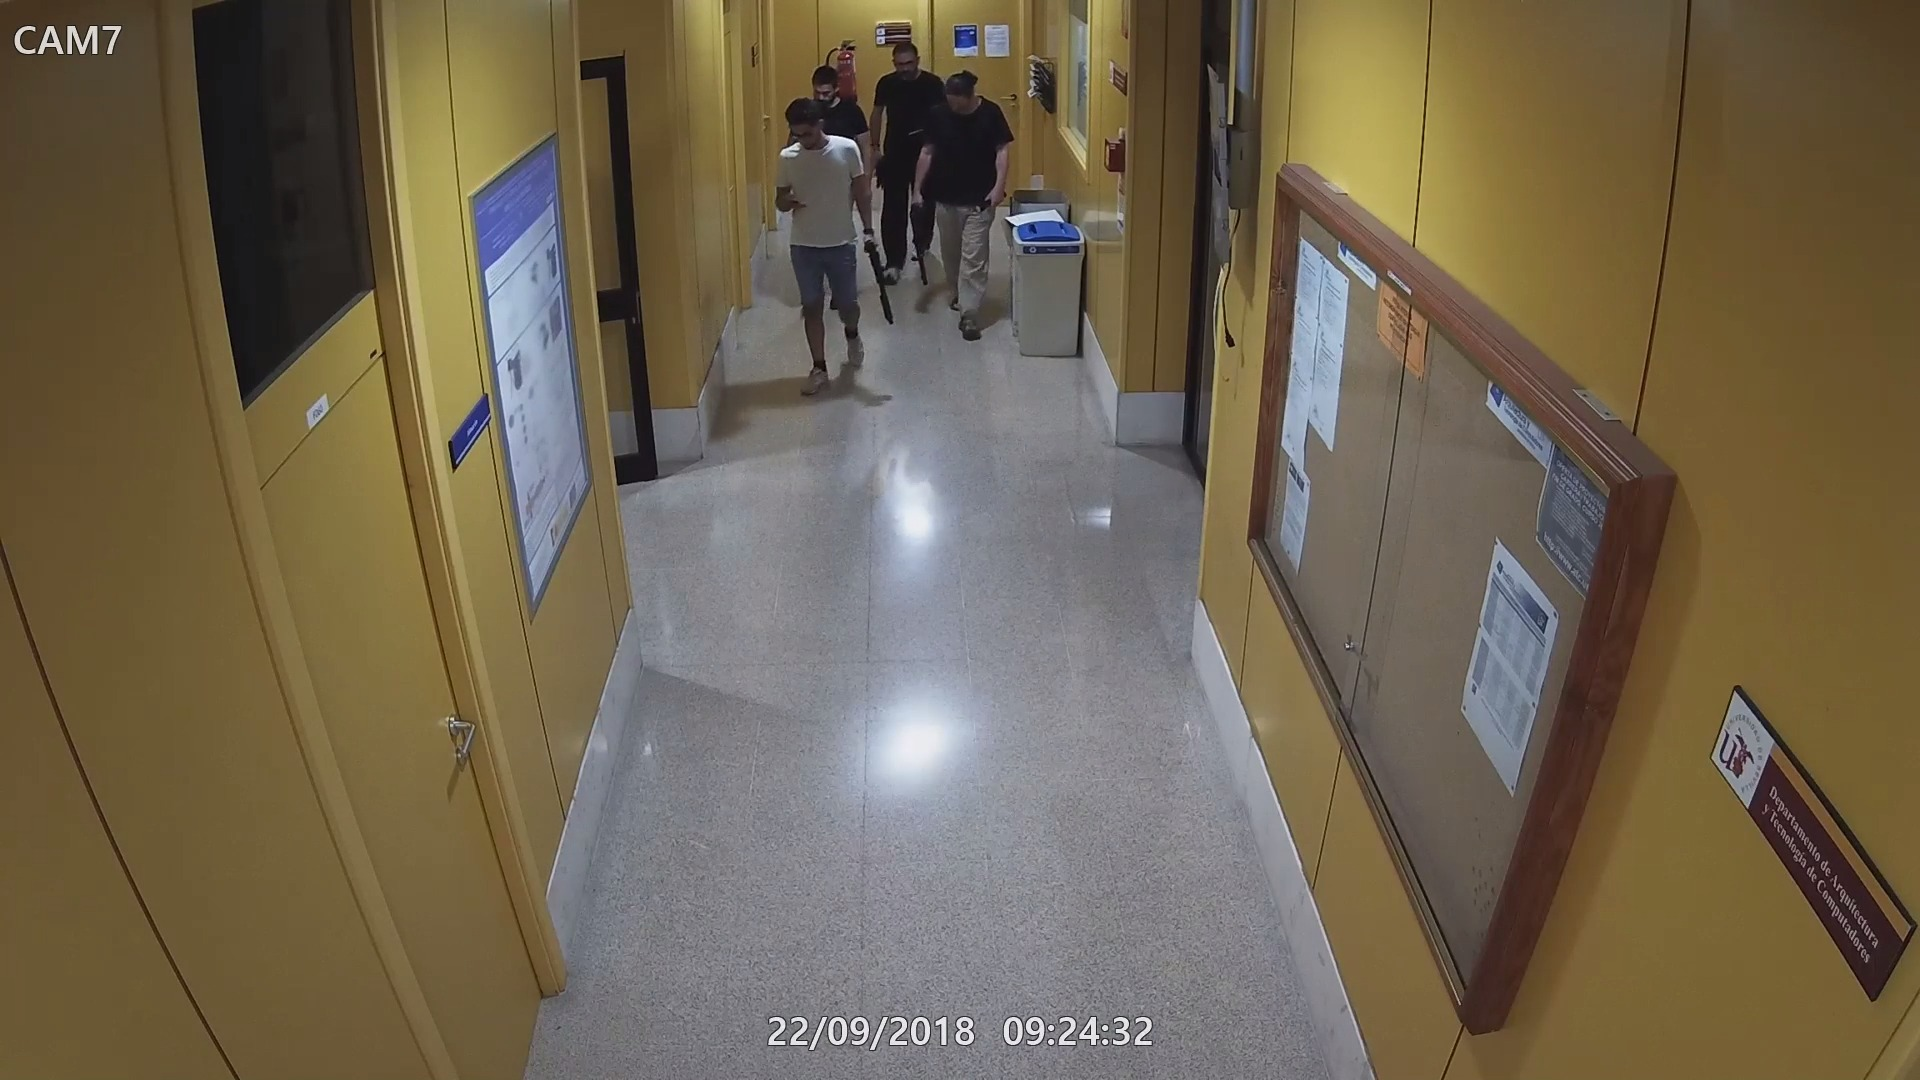Short_rifle: (860, 228, 895, 327), (909, 187, 934, 287)
